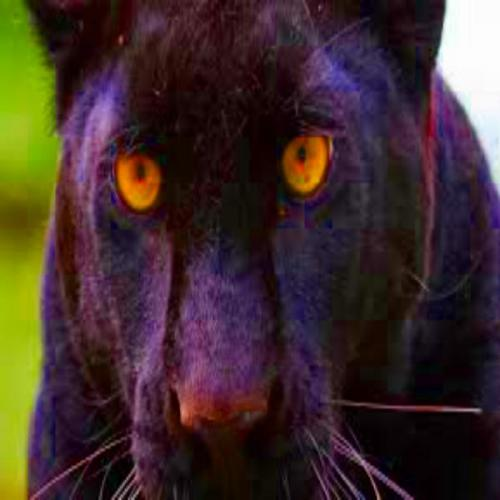panther-endangered: (19, 10, 489, 486)
